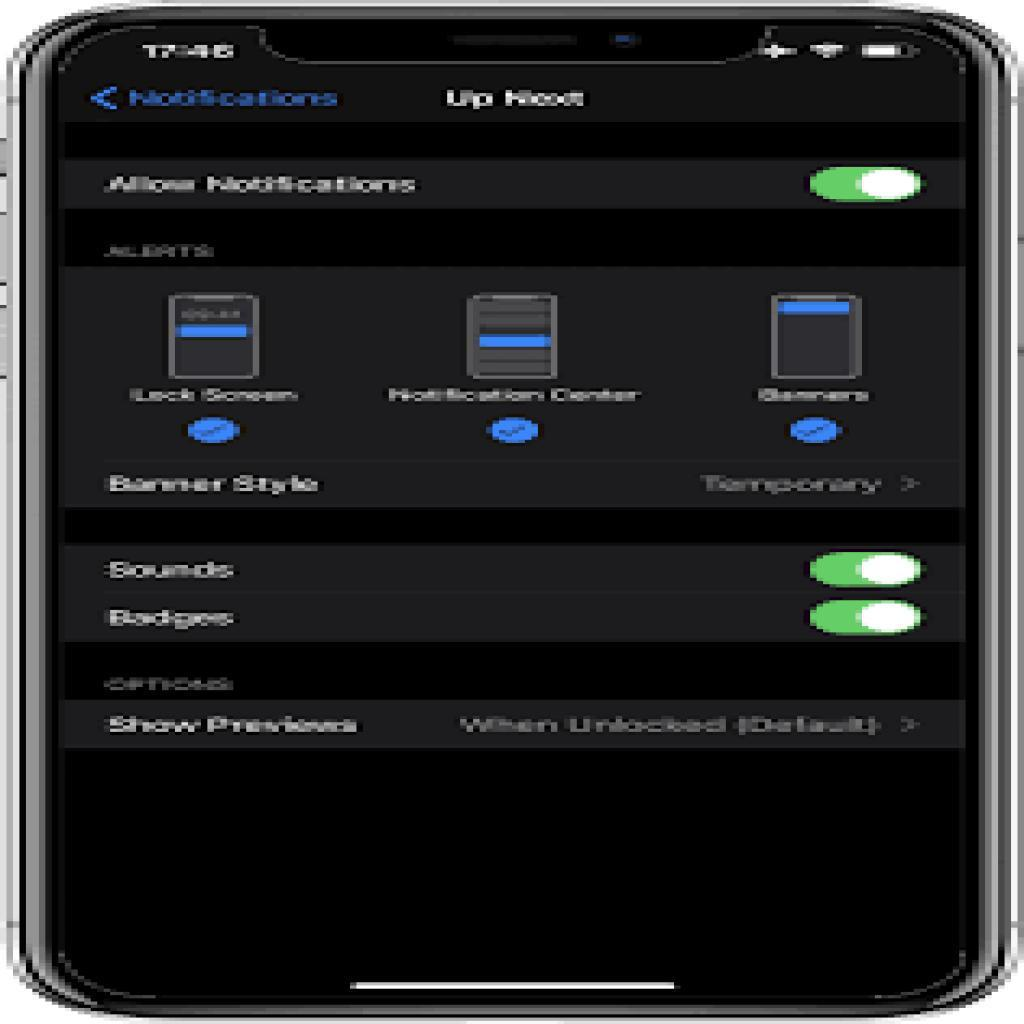switch: (790, 157, 943, 209), (796, 595, 927, 640), (798, 552, 936, 590)
